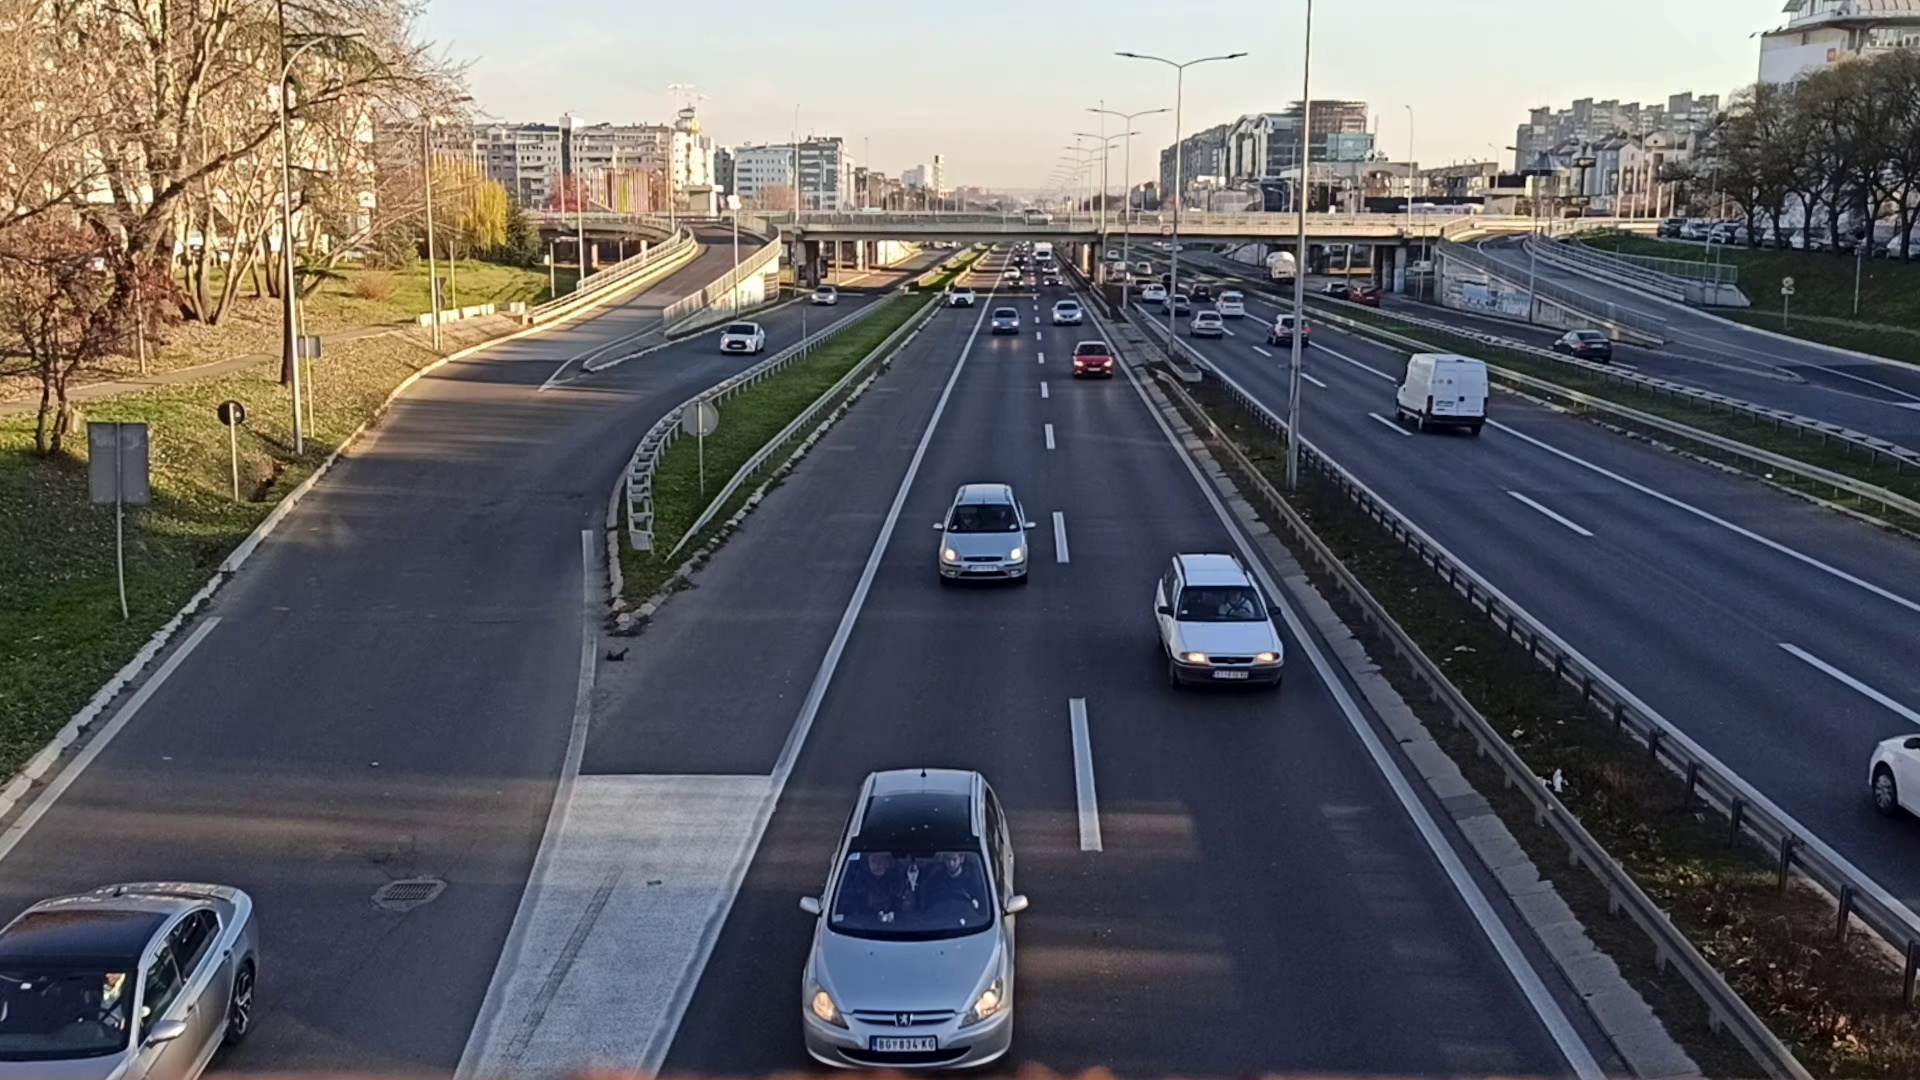car: (800, 760, 1017, 1062), (1, 881, 261, 1080), (1155, 553, 1284, 690), (938, 479, 1030, 582), (1270, 310, 1309, 348), (1072, 342, 1113, 378), (720, 320, 765, 353), (1189, 309, 1221, 335), (990, 307, 1019, 334), (1051, 301, 1083, 324), (808, 280, 837, 305)
van: (1395, 349, 1491, 436)
